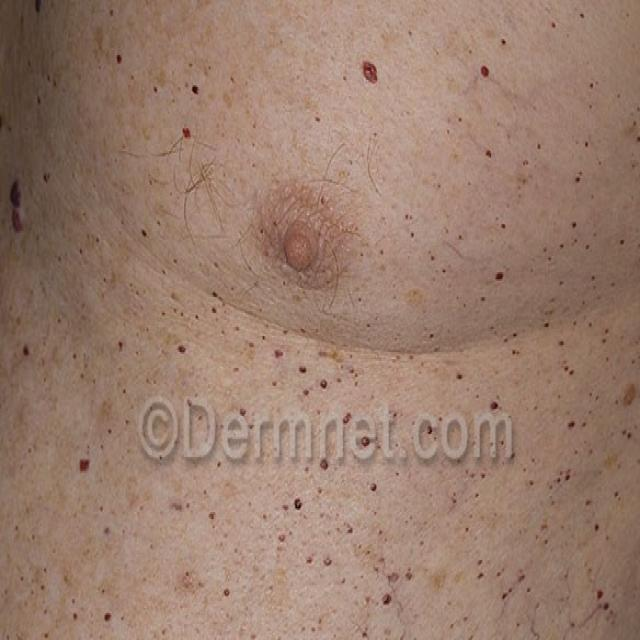Vascular Tumors: (0, 84, 91, 262), (5, 302, 56, 378), (352, 33, 389, 120), (274, 487, 338, 529), (70, 438, 100, 487)
